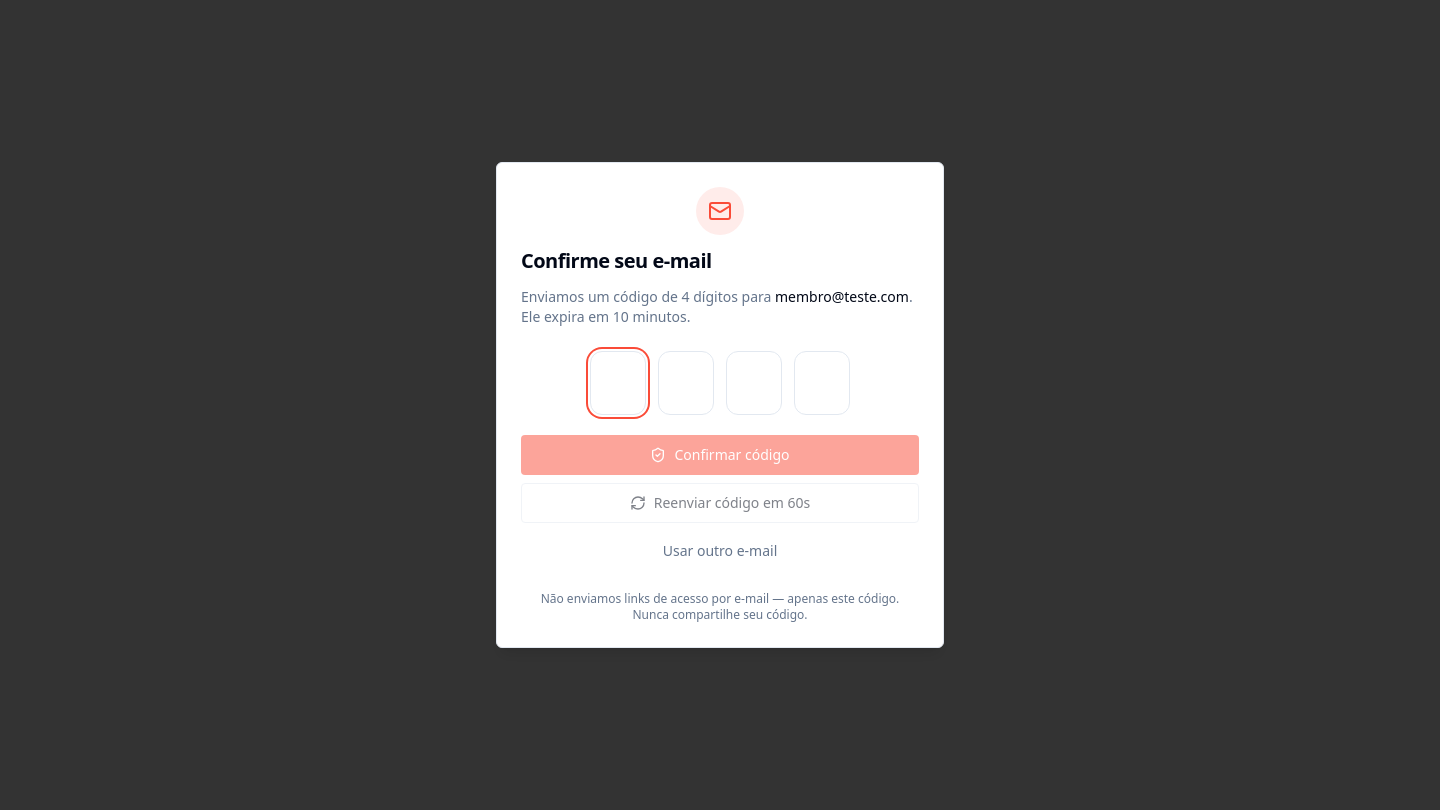
Test case: EmailCodeVerificationModal › mostra erro em código inválido e não confirma
Type "9" into the field named "Dígito 1 de 4" at (618,383), box top-left (590, 351), bottom-right (646, 415)
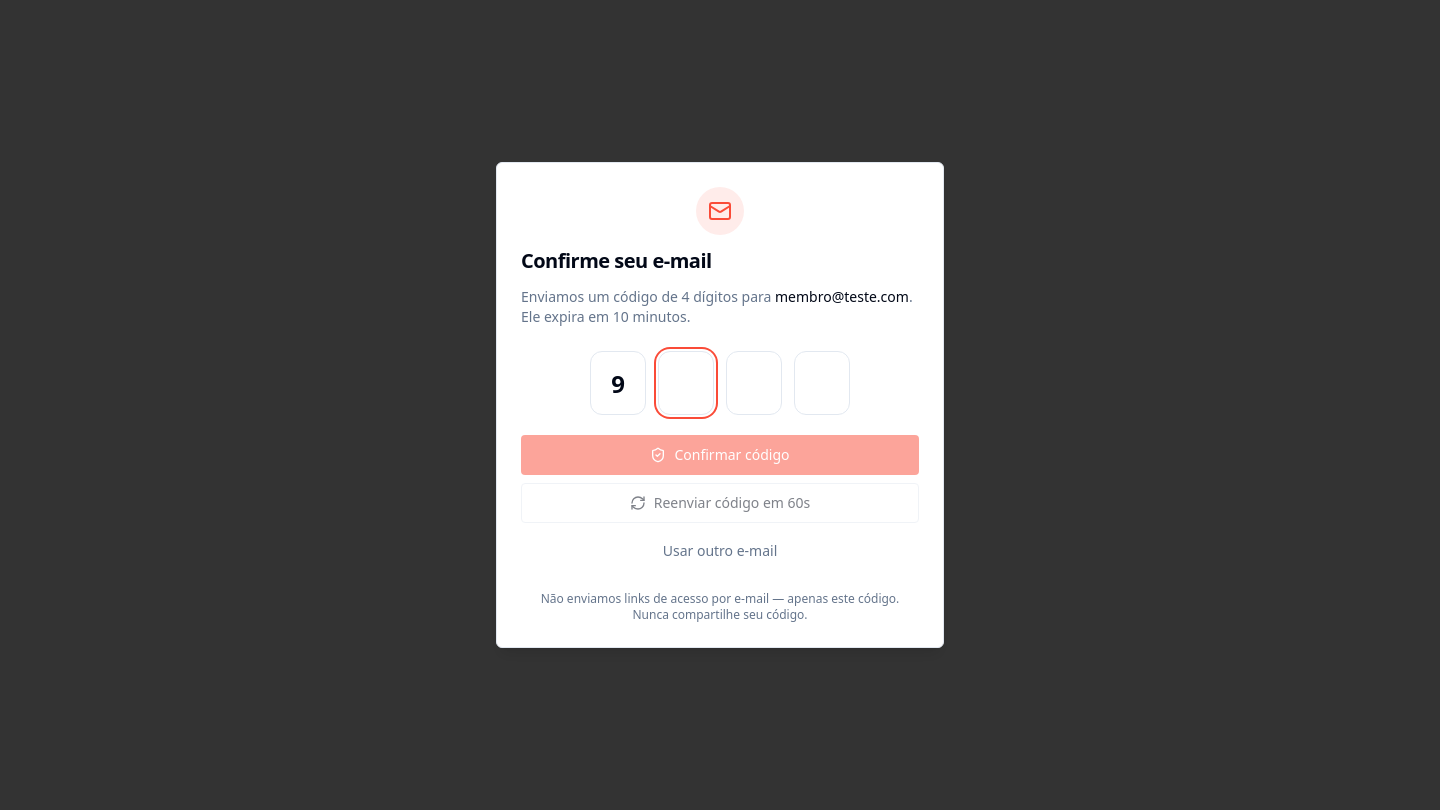
Type "9" into the field named "Dígito 2 de 4" at (686,383), box top-left (658, 351), bottom-right (714, 415)
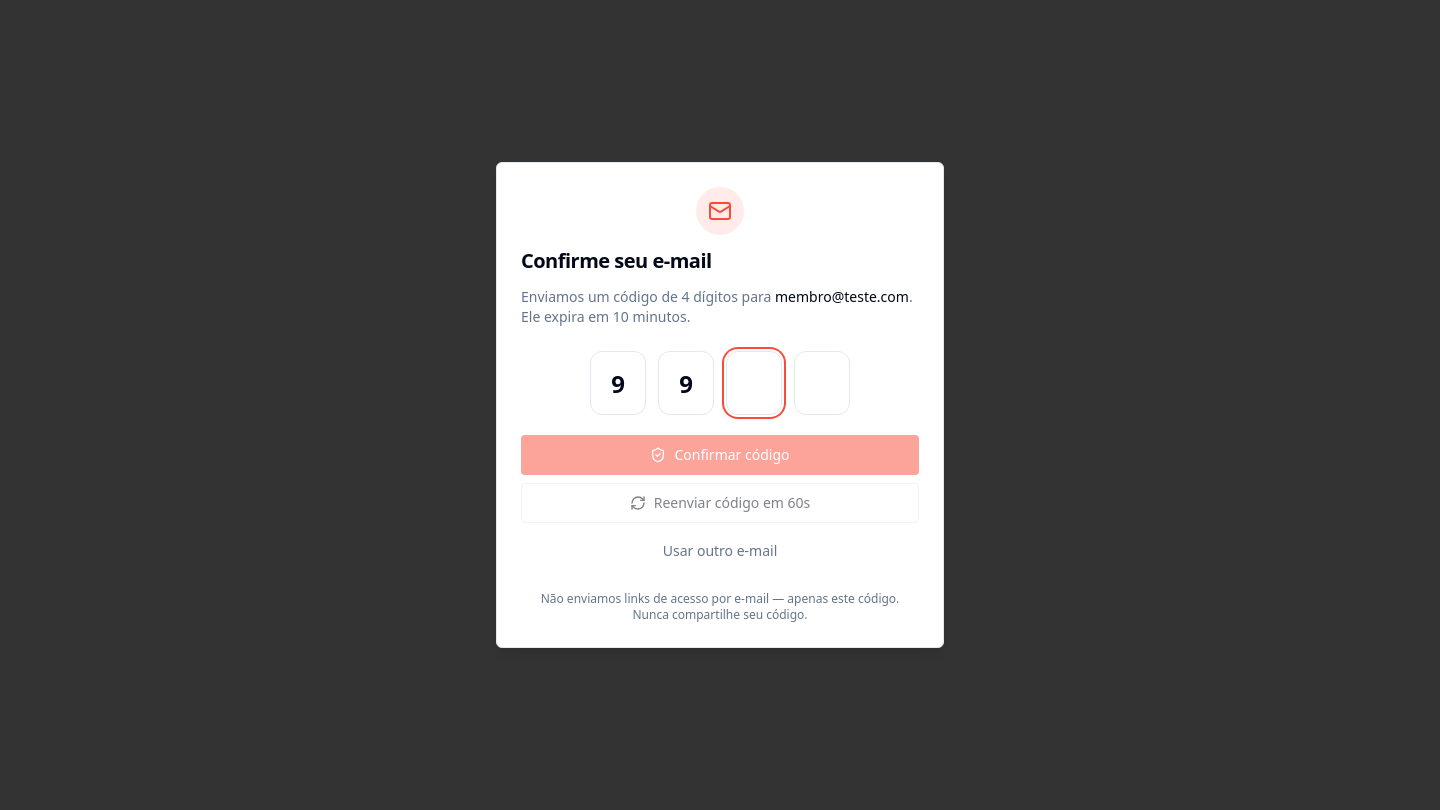
Type "9" into the field named "Dígito 3 de 4" at (754,383), box top-left (726, 351), bottom-right (782, 415)
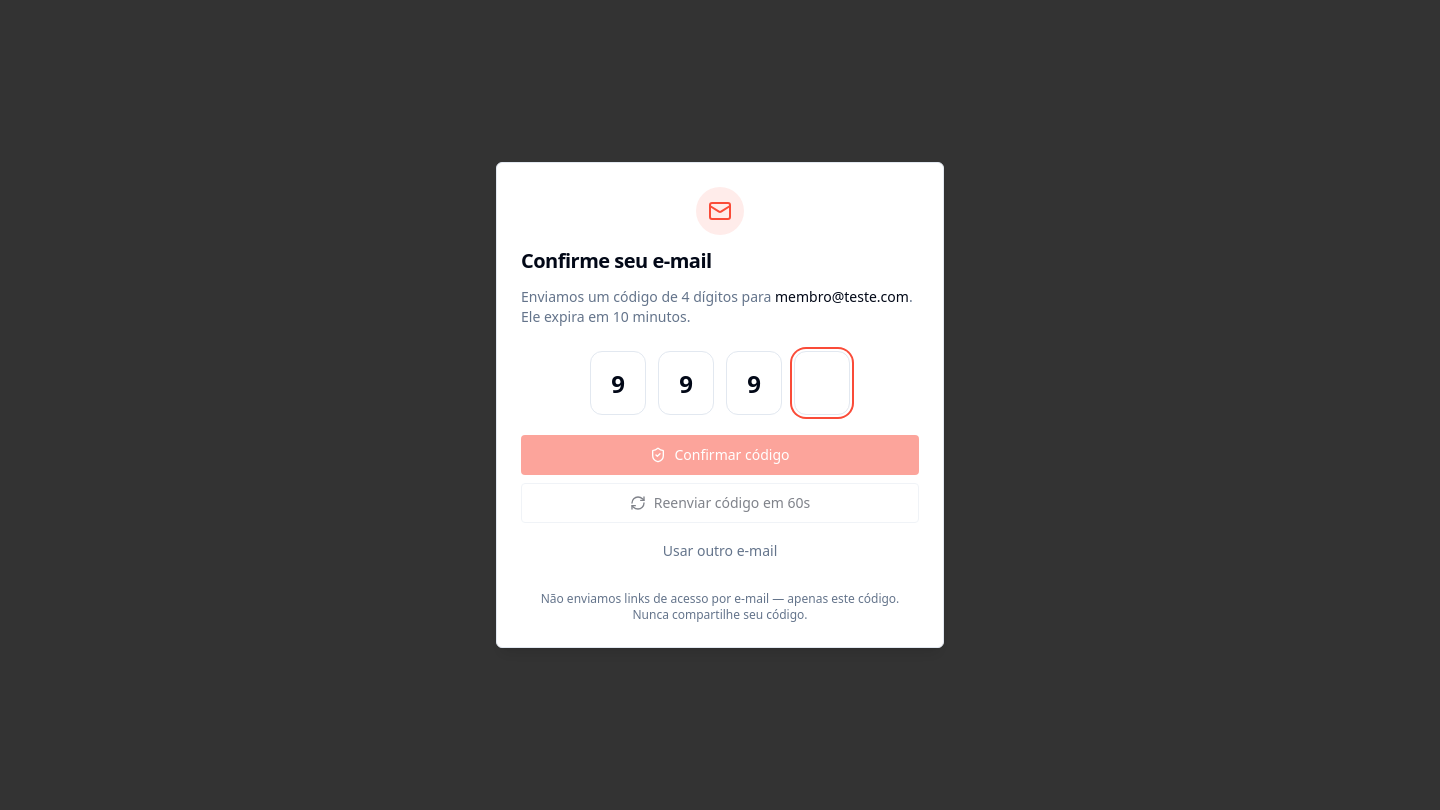
Type "9" into the field named "Dígito 4 de 4" at (822,383), box top-left (794, 351), bottom-right (850, 415)
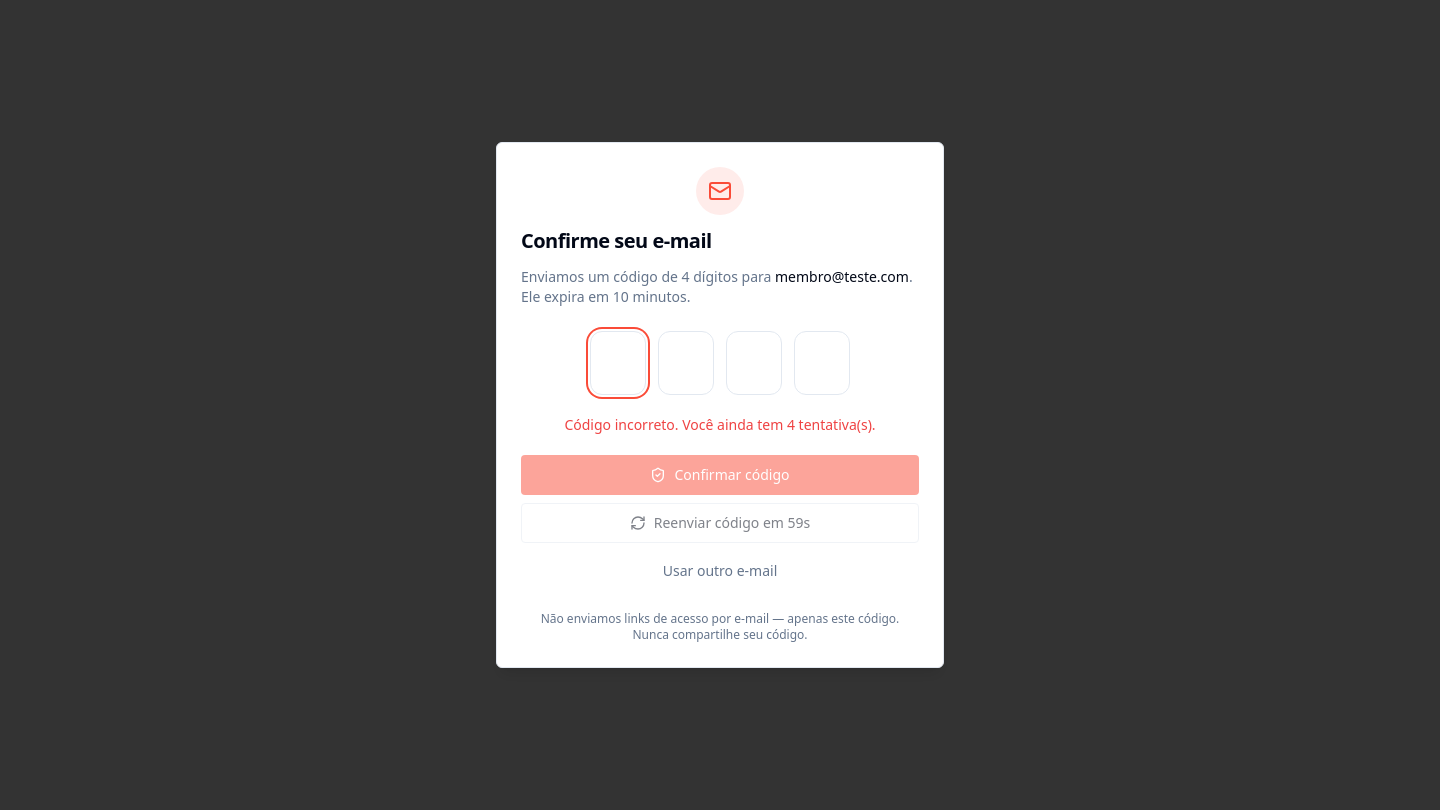
Expected: the message "Código incorreto. Você ainda tem 4 tentativa(s)." is shown, top-left (564, 415), bottom-right (876, 434)
